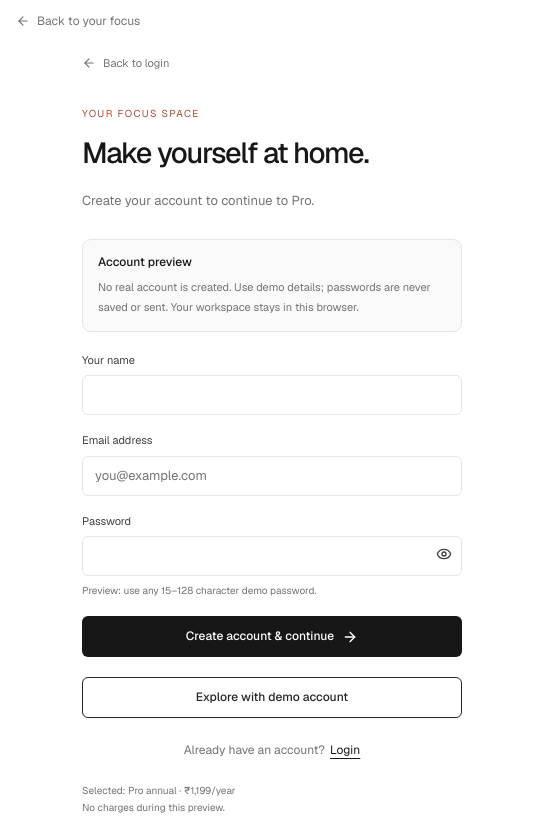
Test: Pro frontend journeys › supports create account preview without persisting the password
The width and height of the screenshot is (545, 830).
Type "Test Person" into the field labelled "Your name" at (272, 395), box [82, 375, 462, 415]
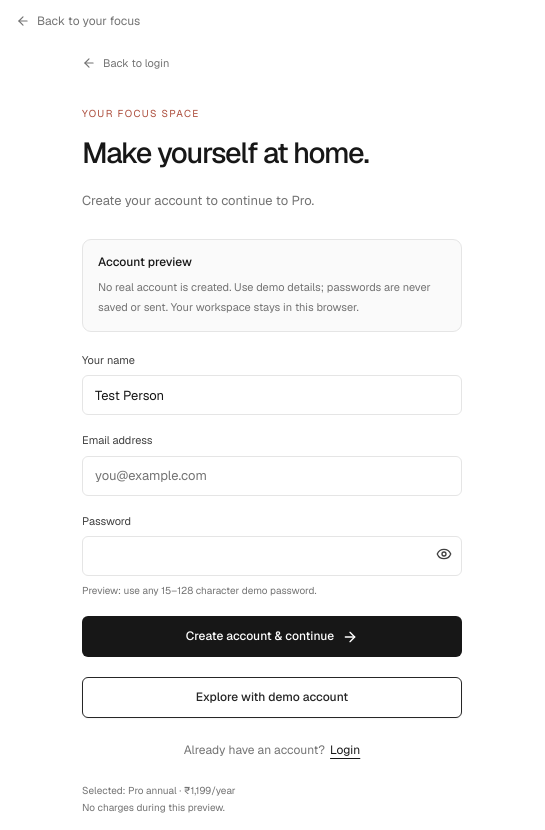
Type "test@example.com" into the field labelled "Email address" at (272, 476), box [82, 456, 462, 496]
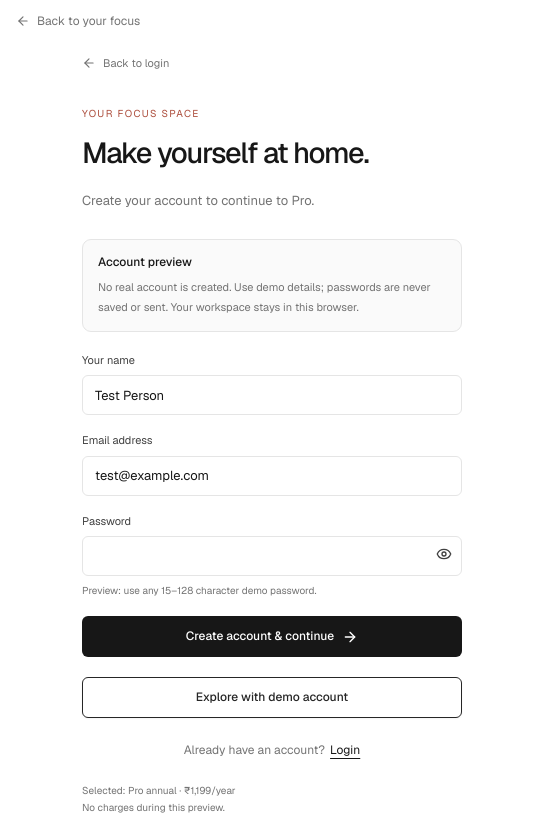
Type "a long demo password" into the password field labelled "Password" at (272, 556), box [82, 536, 462, 576]
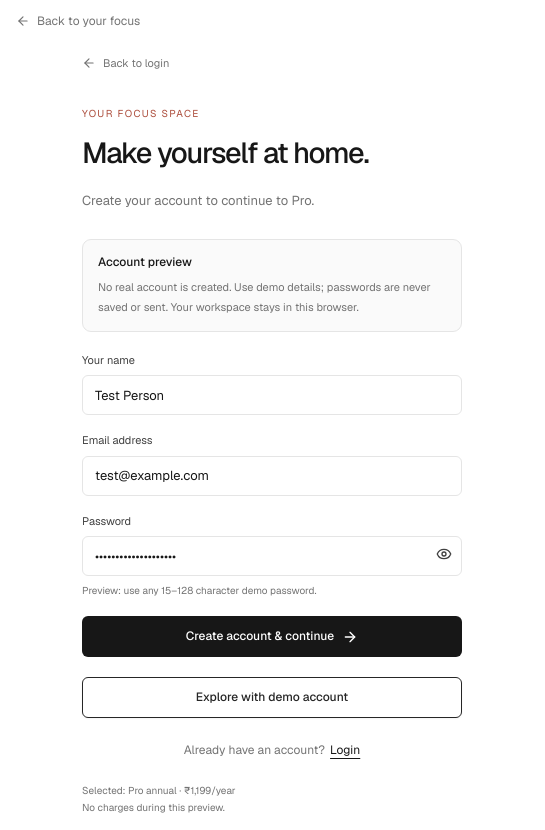
Click the button "Create account & continue" at (272, 637), box [82, 616, 462, 657]
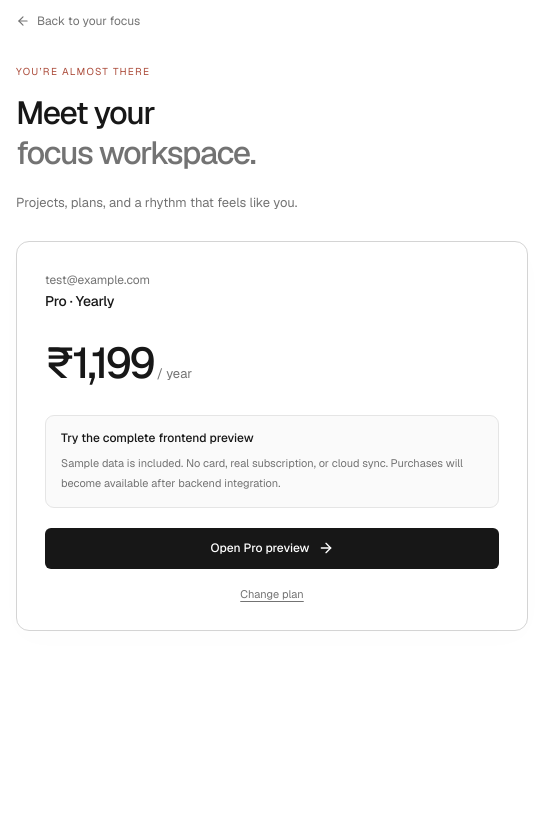
Check: the button "Open Pro preview" is shown, box [45, 528, 499, 569]
